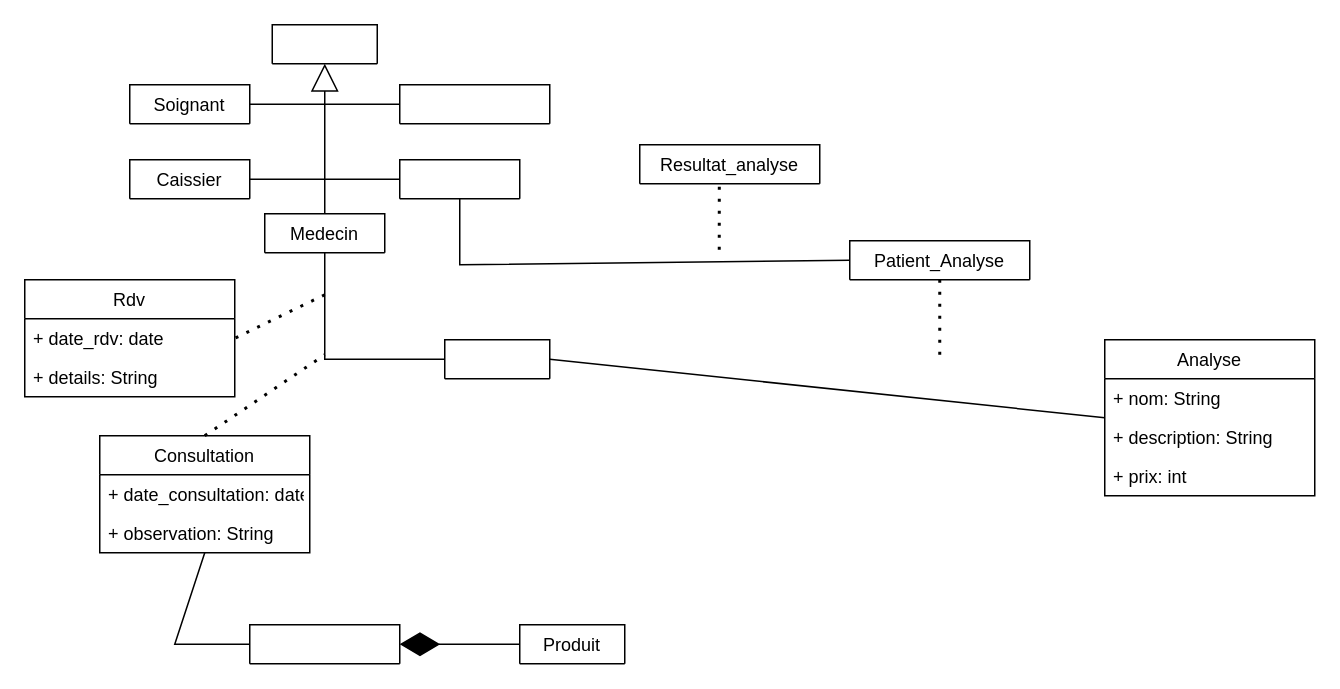
Some shapes in this 1340 by 689 pixel diagram are drawn without their labels. Here are the shapes that lost their labels. From the top down, the centre of each, then its label:
the point at 324,43: Hosto_User
the point at 474,103: Pharmacien
the point at 459,178: Laboratin
the point at 496,358: Patient
the point at 324,643: Ordonnance
